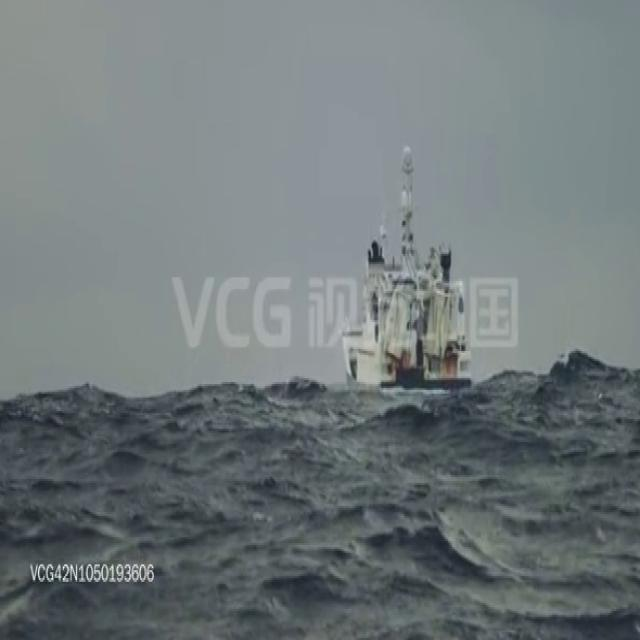houseboat: (339, 159, 467, 388)
